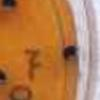black: (4, 78, 35, 100), (62, 43, 78, 60), (0, 0, 18, 10), (1, 68, 8, 86)
